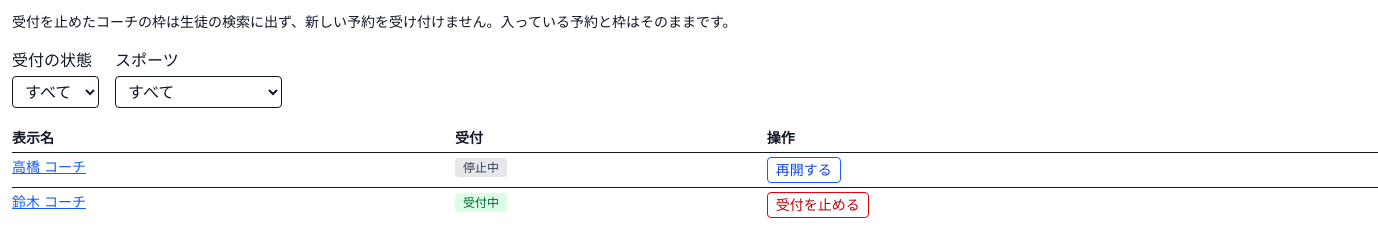
Test case: 本部のコーチの受付の絞り込み › 絞り込んで 0 件なら「条件に合うコーチはいません」を出し、表は出さない
The width and height of the screenshot is (1378, 239).
Expected: the table named "コーチの一覧" is shown, [12,124,1377,222]
Step 1. Select "水泳" in the dropdown labelled "スポーツ" → (198, 92), box [115,76,282,108]
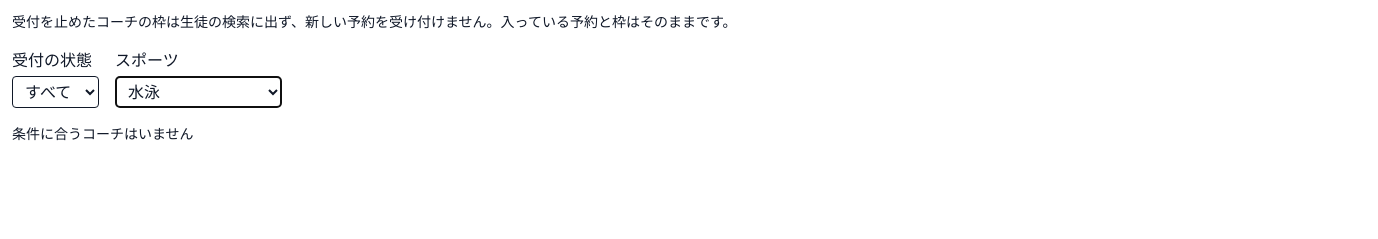
Result: the text "条件に合うコーチはいません" is shown at [12,125,194,142]
Result: the table is gone
